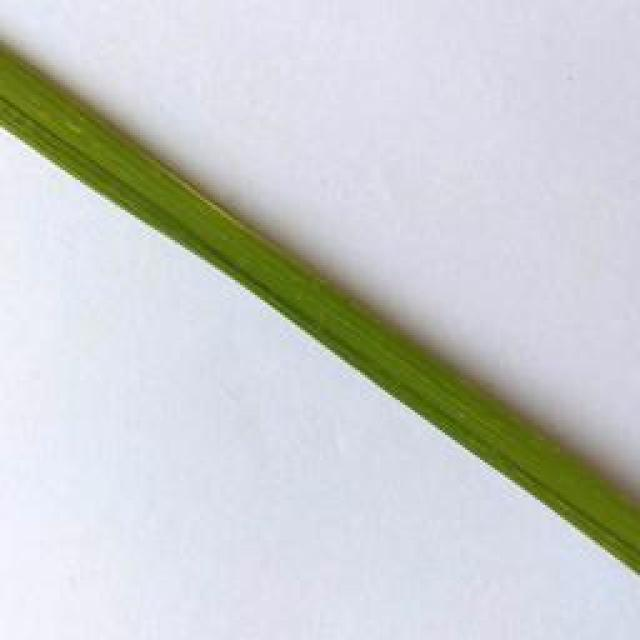Bacterial_Blight: (118, 134, 292, 266)
